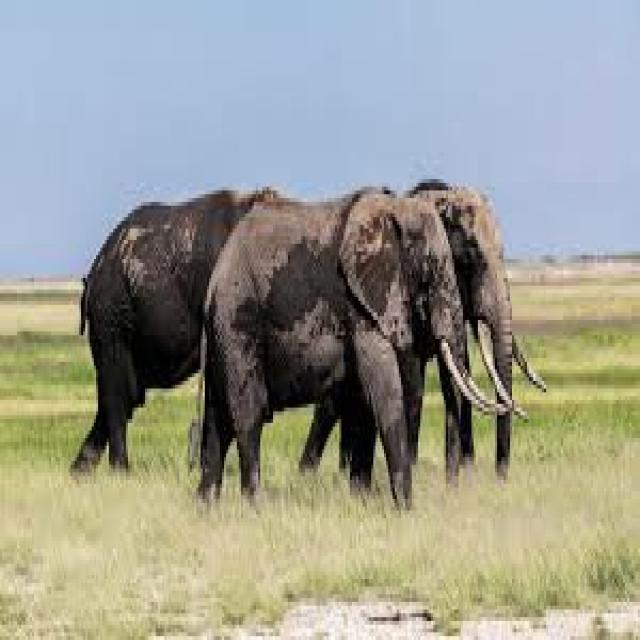elephant: (198, 187, 508, 503), (70, 187, 286, 469), (412, 179, 544, 472)
